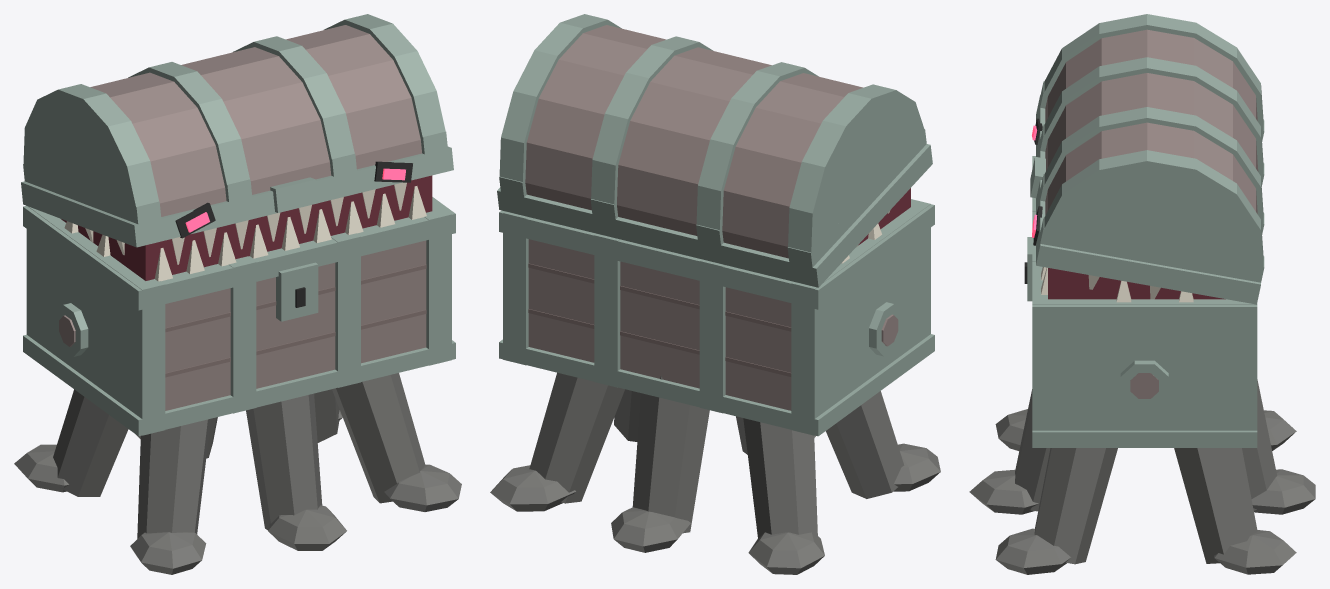
The model's file is Мимик.glb.
3 renders of one model, left to right at view 1: azimuth 30°, elevation 25°; view 2: azimuth 150°, elevation 25°; view 3: azimuth 270°, elevation 25°, orthographic. The views are drawn at different scales.
Parts seen in each view (by area): view 1: mimic; view 2: mimic; view 3: mimic.
Boxes of the visible parts, x1,y1,x2,y2 form: mimic: (14, 14, 461, 574); mimic: (490, 14, 940, 574); mimic: (969, 14, 1315, 574).
Bounding box in the file's own units: 1.09 × 1.34 × 1.
